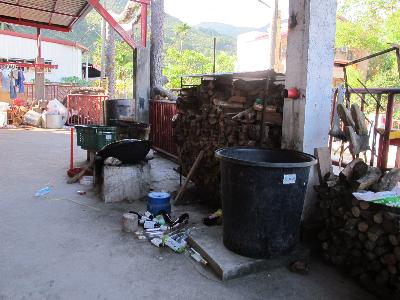bottle: (159, 234, 186, 255), (187, 245, 209, 266), (122, 213, 140, 233)
bowl: (97, 138, 155, 165)
bucket: (213, 145, 318, 261), (42, 115, 65, 129)
